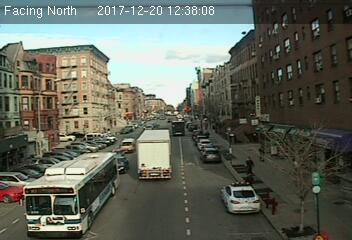bus: (22, 152, 123, 237)
car: (202, 147, 221, 162), (120, 137, 135, 153)
pedestrian: (244, 155, 255, 176)
police: (219, 182, 263, 216)
truck: (134, 128, 172, 180)
ups: (171, 121, 186, 137)
